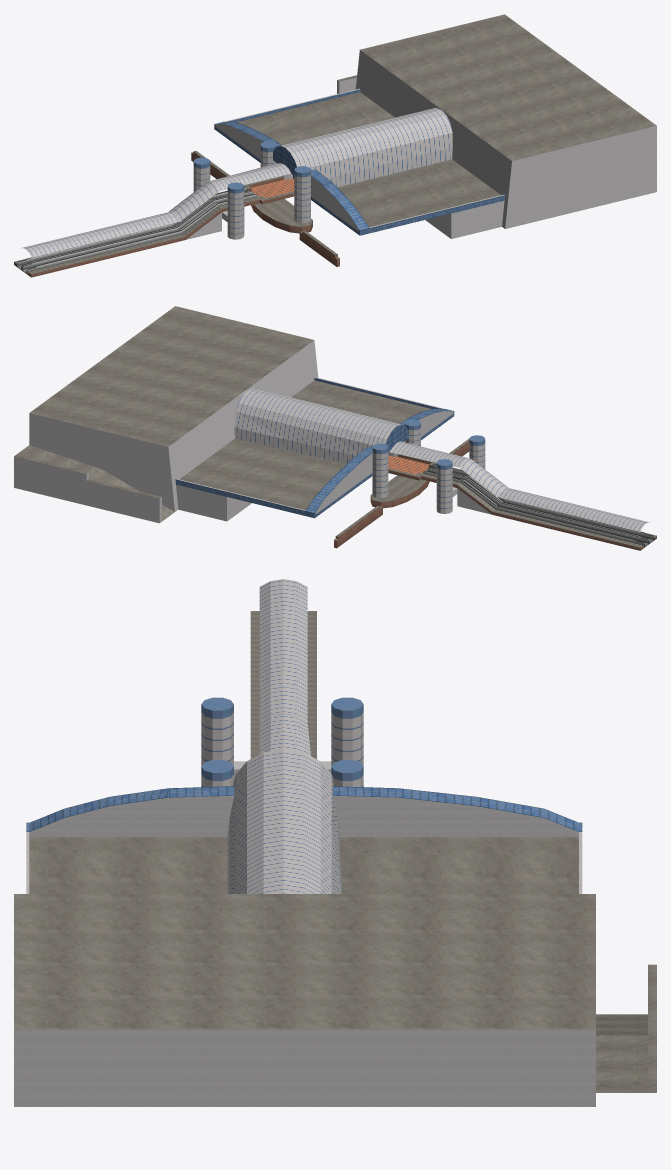
File: ballys01_lvs.obj
The picture shows the model from 3 angles, top to bottom: view 1: azimuth 30°, elevation 25°; view 2: azimuth 150°, elevation 25°; view 3: azimuth 270°, elevation 25°; orthographic projection. The views are drawn at different scales.
Visible parts, largest first — view 1: ballys01_lvs; view 2: ballys01_lvs; view 3: ballys01_lvs.
Part boxes in pixels (left/top/right/bottom): ballys01_lvs: left=14, top=14, right=656, bottom=277; ballys01_lvs: left=14, top=306, right=656, bottom=550; ballys01_lvs: left=14, top=579, right=656, bottom=1106.
Bounding box in the file's own units: 138 × 15.46 × 71.07.
Materials: 12 (12 with a texture image).
